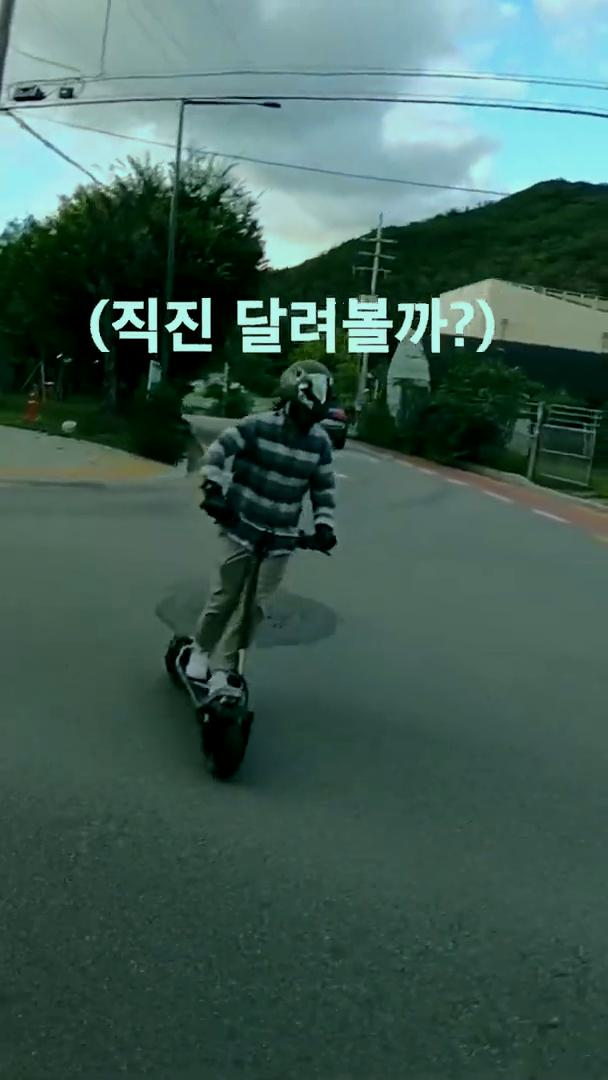helmet: (161, 356, 344, 783)
